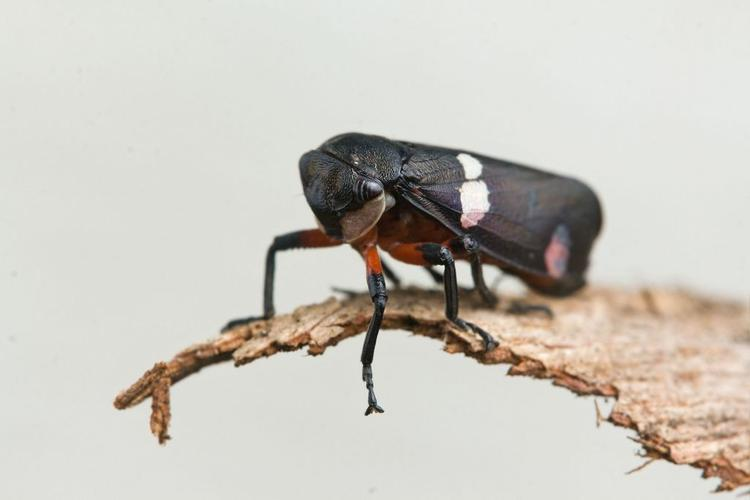Cicadellidae: (252, 129, 600, 326)
